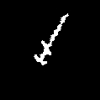double_crochet: (34, 14, 68, 64)
